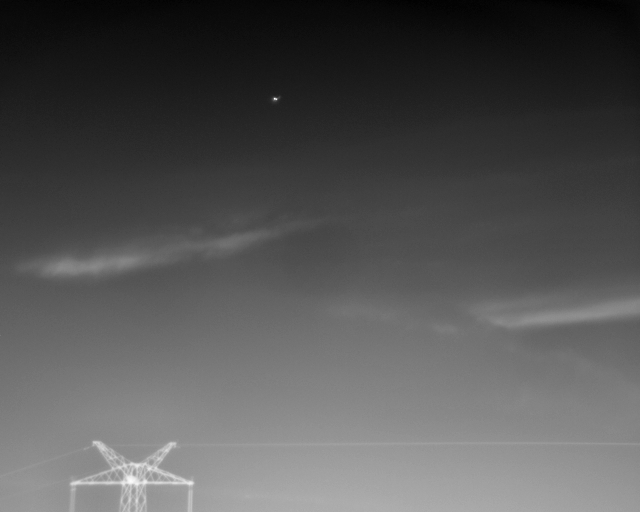Target: (272, 96, 282, 104)
